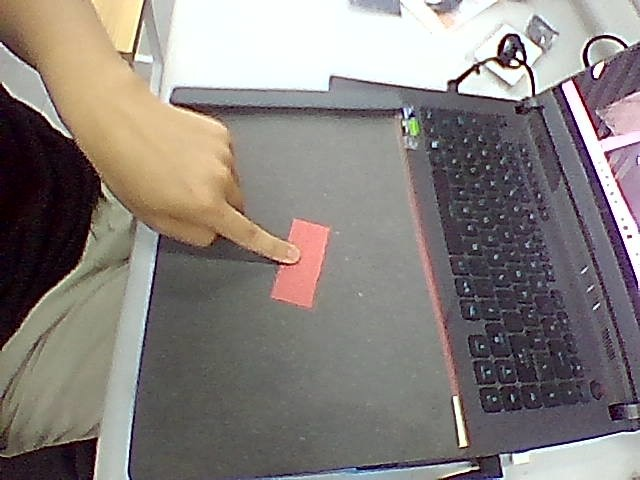card: (272, 219, 329, 308)
